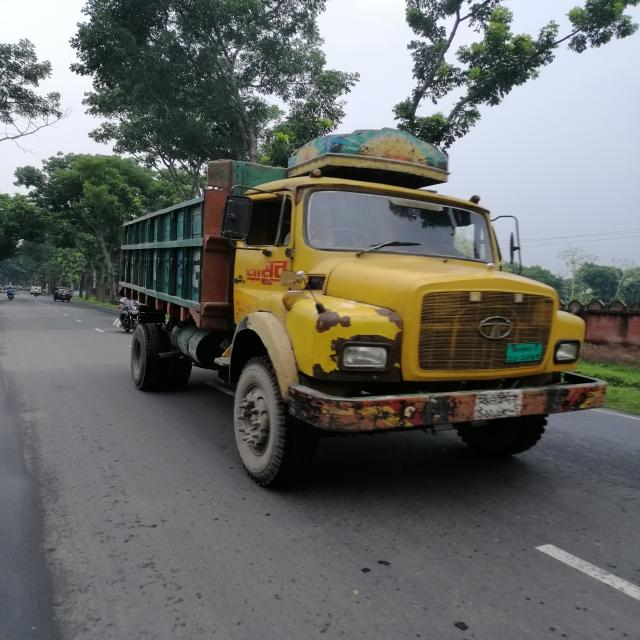Truck: (114, 127, 618, 505)
